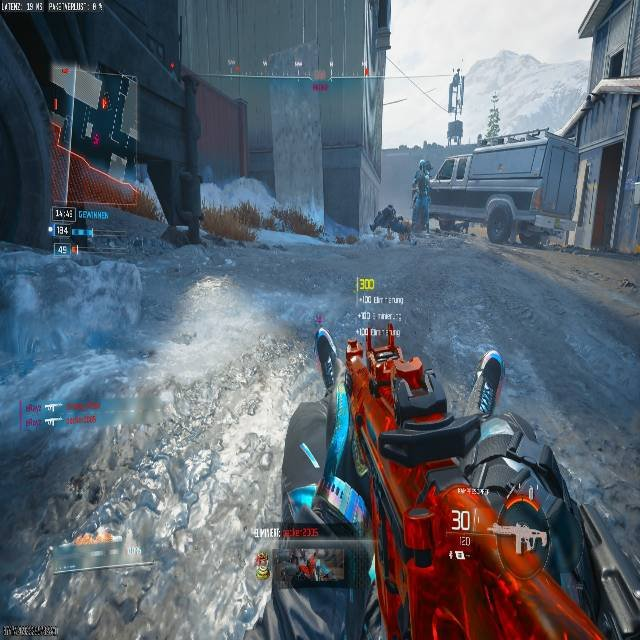player: (367, 205, 412, 242)
